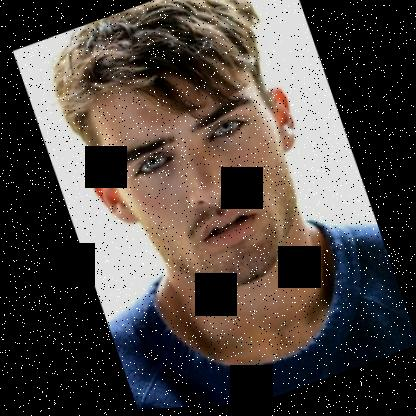Male: (56, 25, 339, 324)
